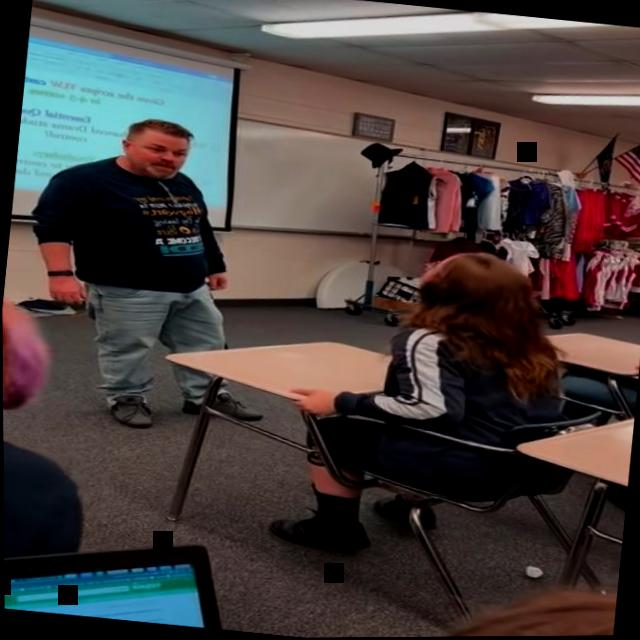NO-Mask: (118, 121, 190, 183)
